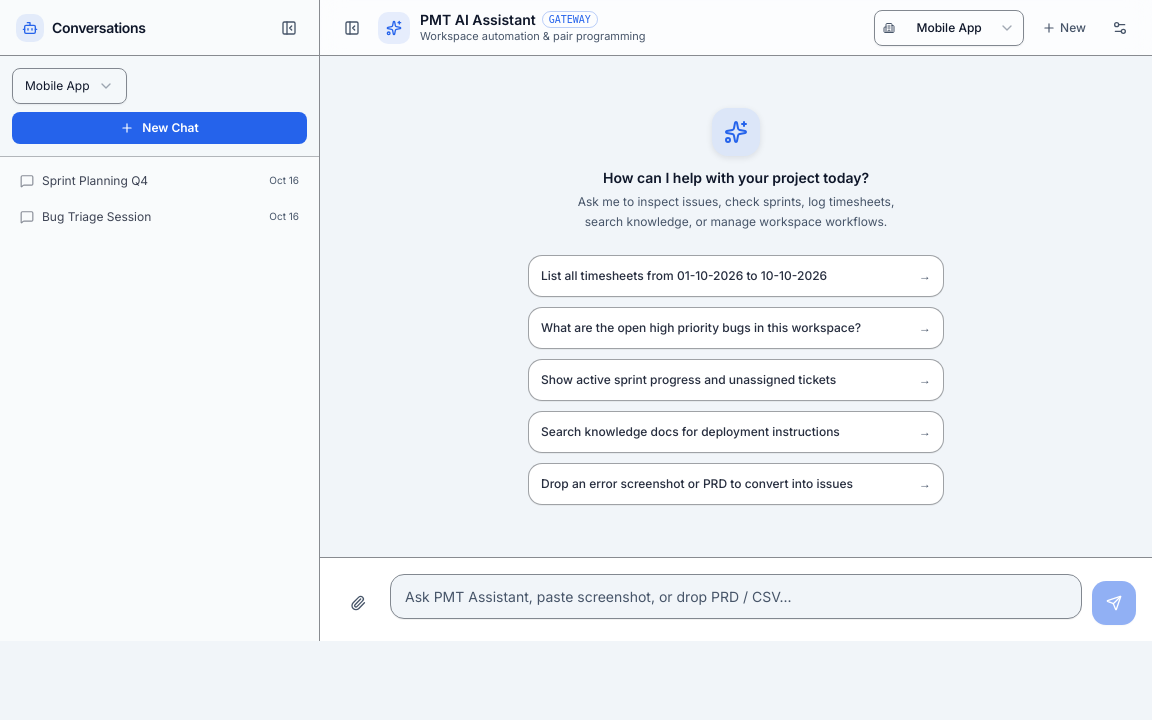
<AIChatPage> › loads workspaces, displays conversations, and handles new chat creation
The image size is (1152, 720).
Expected: the text "Sprint Planning Q4" is shown, [42, 173, 148, 189]
# Select second conversation
Click the text "Bug Triage Session": (97,217) [42, 209, 151, 225]
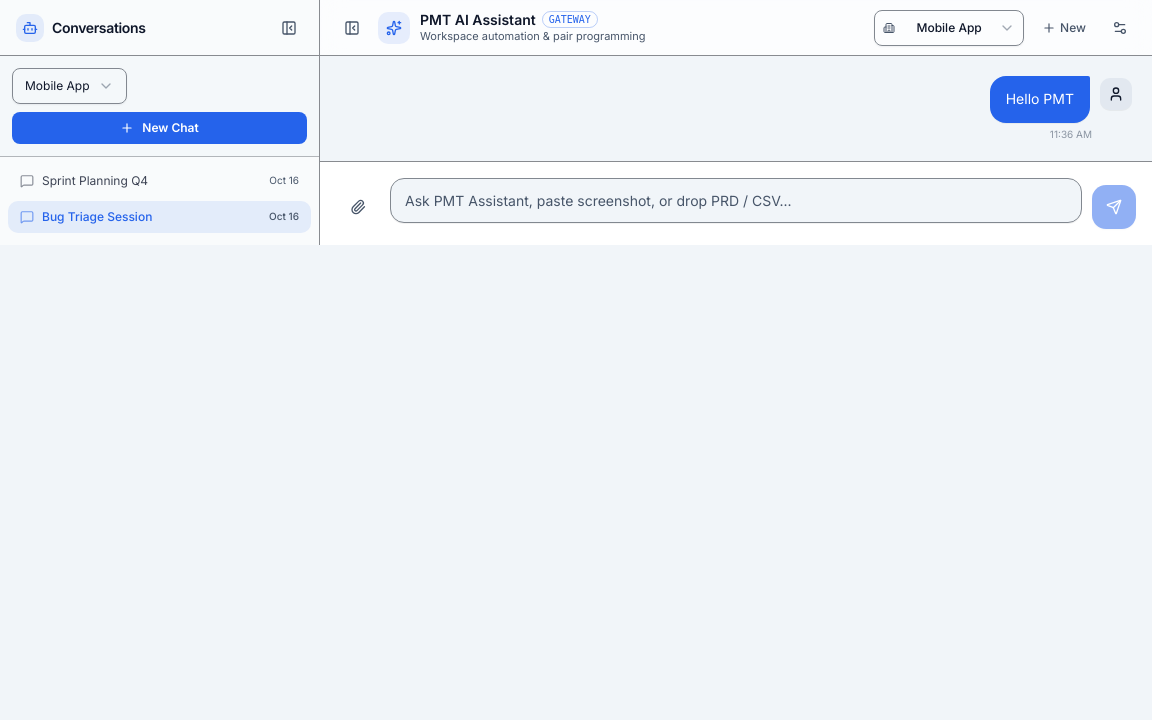
# Click "New Chat"
Click the button "New Chat": (160,128) [12, 112, 307, 144]
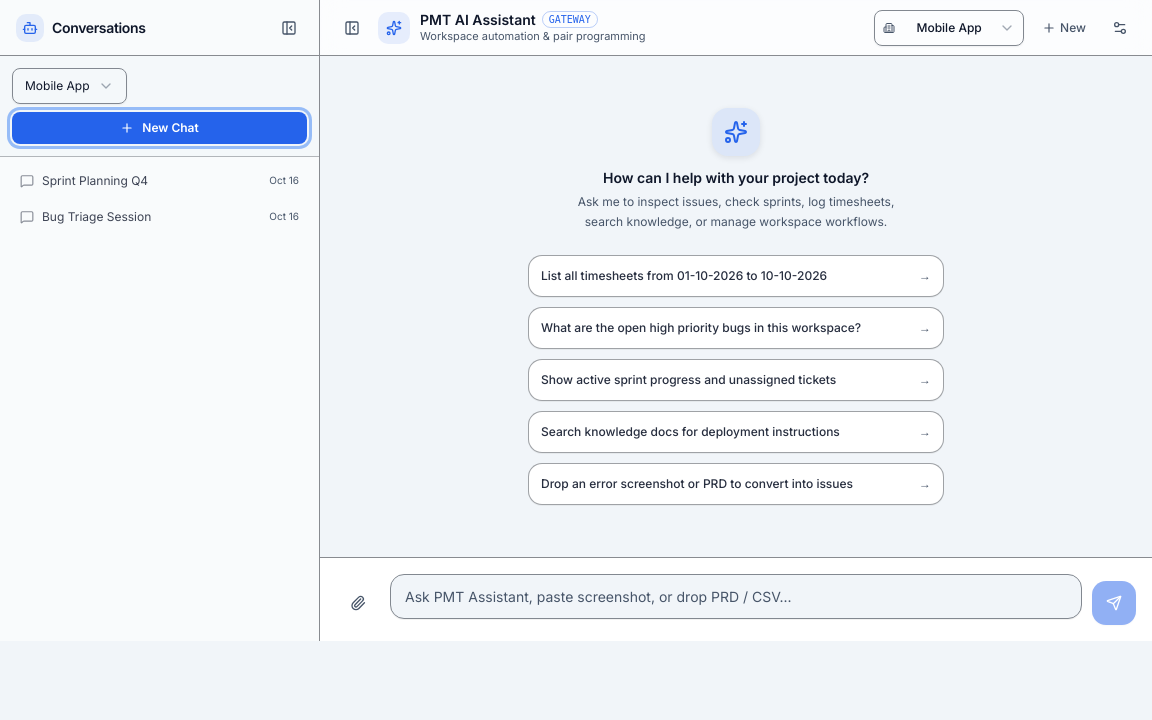
Expected: the heading "How can I help with your project today?" is shown, [603, 168, 869, 188]
